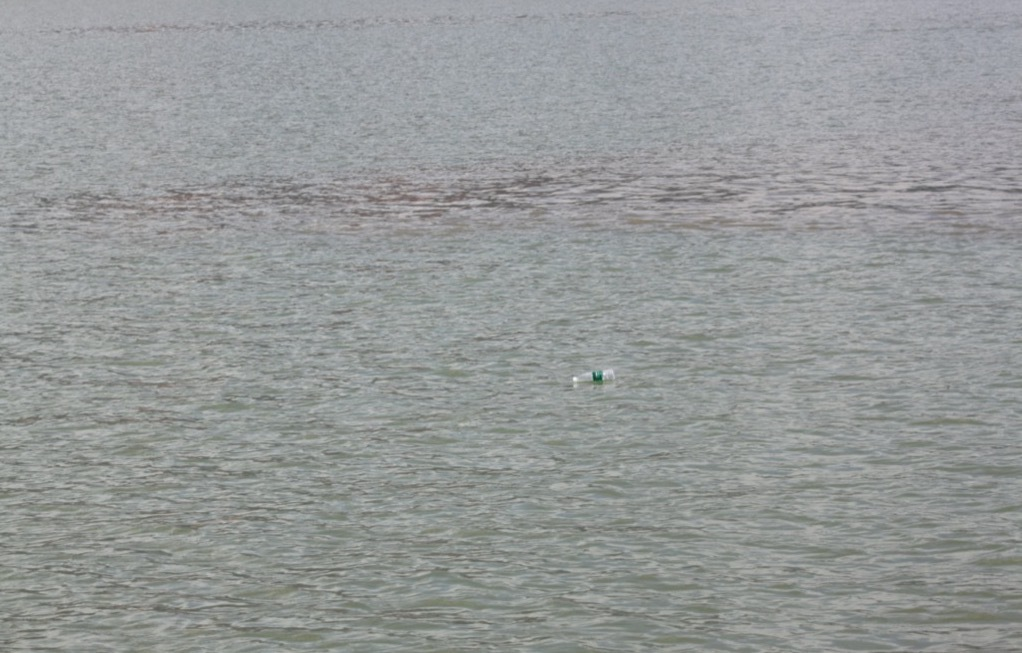plastic: (561, 354, 622, 402)
